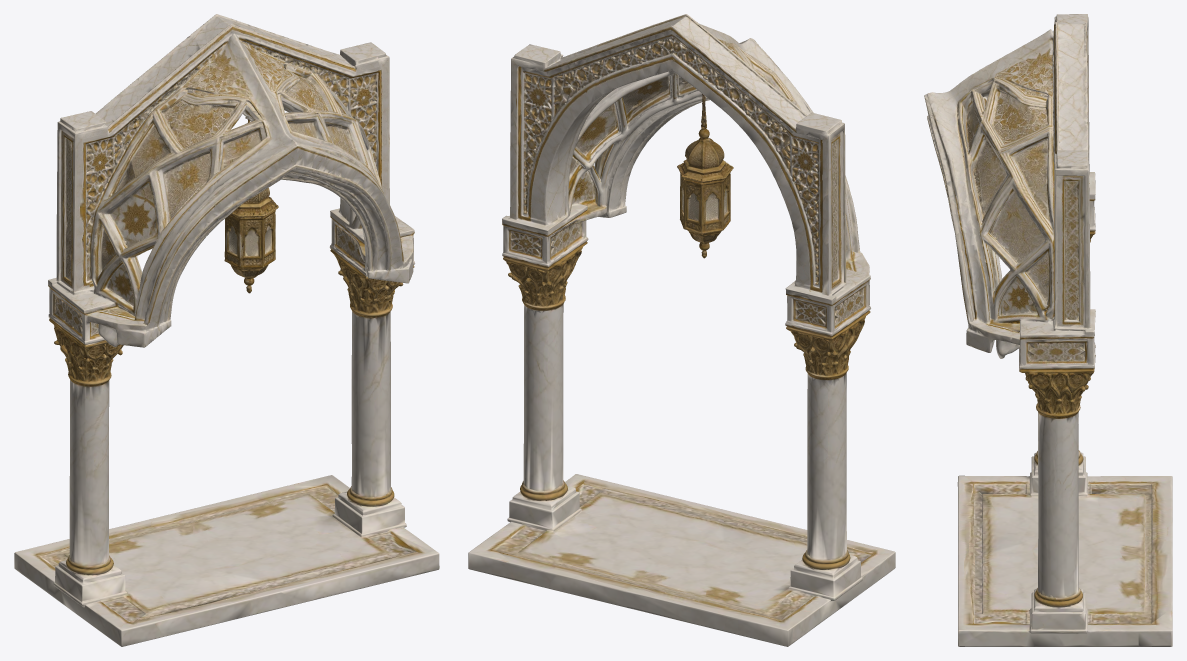
Rendered from arcade_bay.glb.
3 views of the same model, side by side, from view 1: azimuth 30°, elevation 25°; view 2: azimuth 150°, elevation 25°; view 3: azimuth 270°, elevation 25° (orthographic).
Bounding box in the file's own units: 4.75 × 7.5 × 3.08.
Materials: 1 (1 with a texture image).
